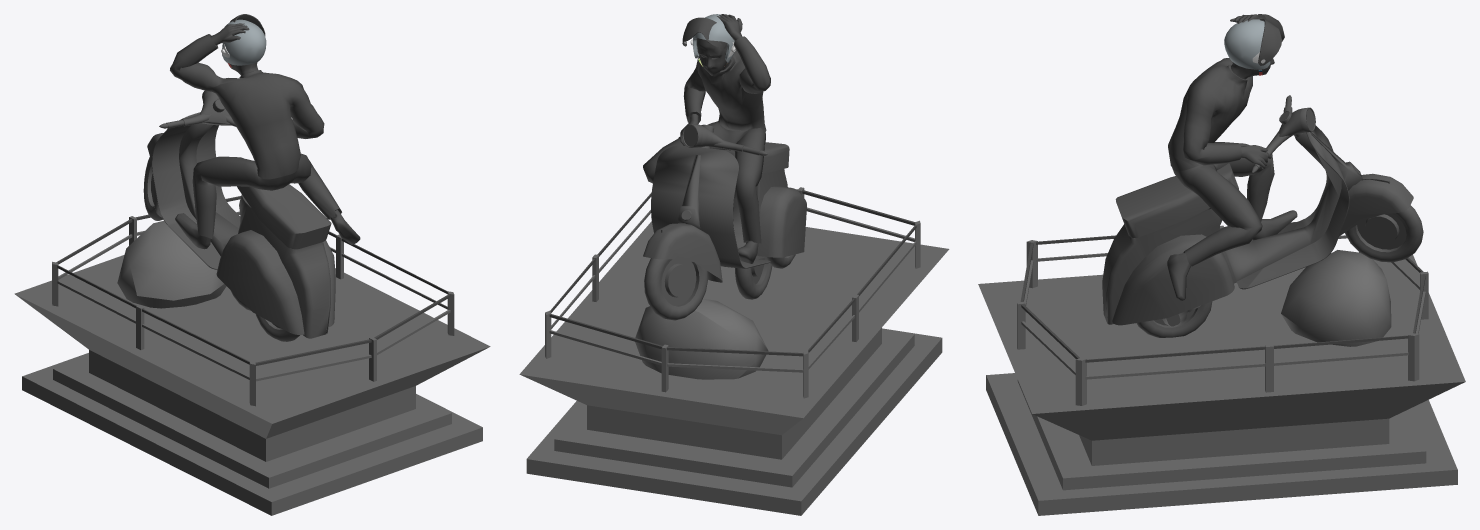
File: patung3.fbx
3 renders of one model, left to right at view 1: azimuth 30°, elevation 25°; view 2: azimuth 150°, elevation 25°; view 3: azimuth 270°, elevation 25°, orthographic. The views are drawn at different scales.
Visible parts, largest first — view 1: @Vespa; view 2: @Vespa; view 3: @Vespa.
Boxes of the visible parts, <box> form: @Vespa: <box>14,14,490,515</box>; @Vespa: <box>519,14,949,515</box>; @Vespa: <box>978,14,1465,515</box>.
Size of the model in its own units: 2112 by 2559 by 2683.
